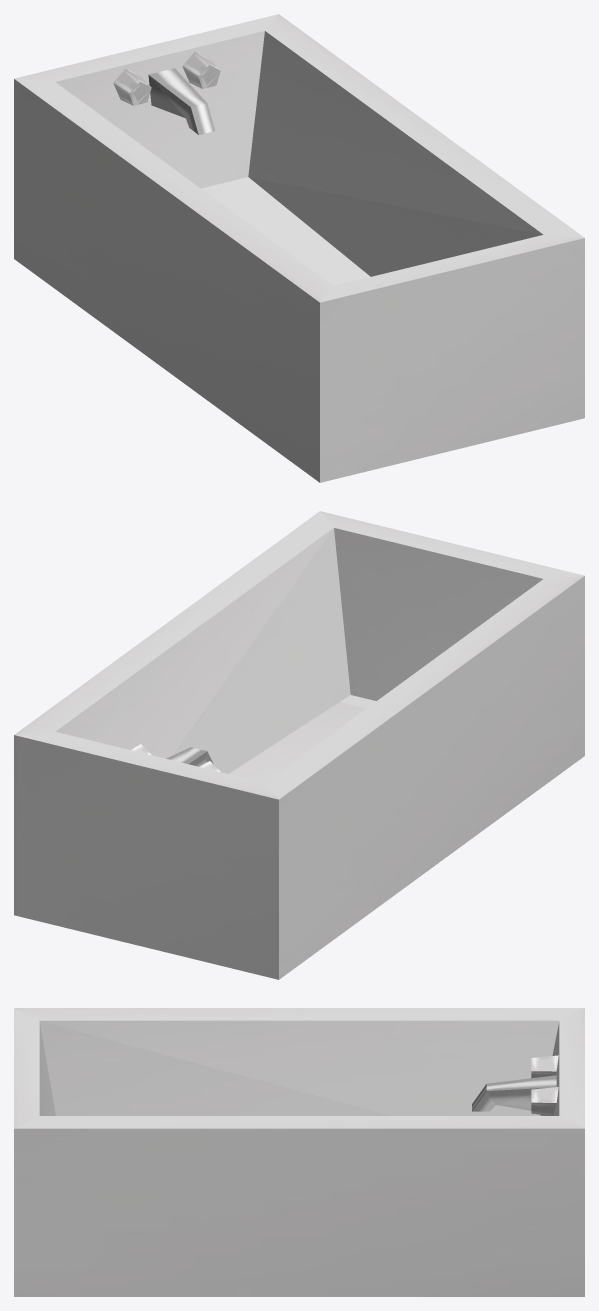
The model's file is Master.obj.
The picture shows the model from 3 angles, top to bottom: view 1: azimuth 30°, elevation 25°; view 2: azimuth 150°, elevation 25°; view 3: azimuth 270°, elevation 25°; orthographic projection. The views are drawn at different scales.
Bounding box in the file's own units: 2 × 1.3 × 4.
